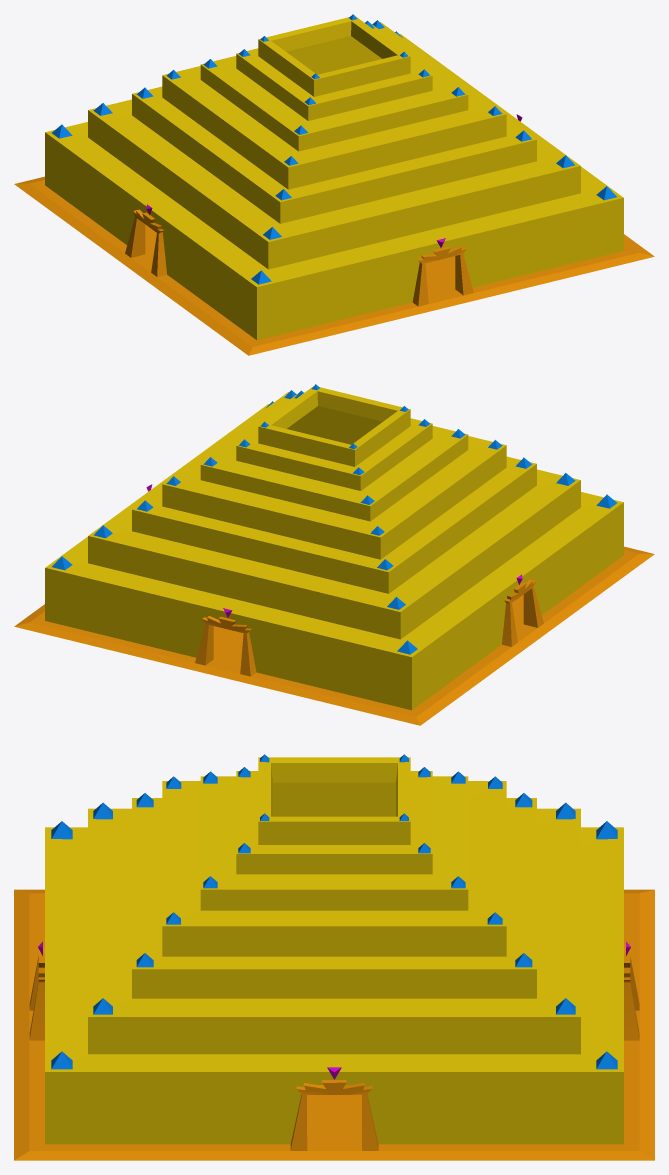
The model's file is Temple Shell.fbx.
The picture shows the model from 3 angles, top to bottom: view 1: azimuth 30°, elevation 25°; view 2: azimuth 150°, elevation 25°; view 3: azimuth 270°, elevation 25°; orthographic projection. The views are drawn at different scales.
Visible parts, largest first — view 1: pCube1, pCube3, Temple_FIX_0000000000000000000000000000000000000:Temple_FIX_ (×2); view 2: pCube1, pCube3, Temple_FIX_0000000000000000000000000000000000000:Temple_FIX_ (×2); view 3: pCube1, pCube3, Temple_FIX_0000000000000000000000000000000000000:Temple_FIX_ (×3).
Boxes of the visible parts, x1,y1,x2,y2 form: pCube1: (45,16,623,340); pCube3: (14,176,654,355); Temple_FIX_0000000000000000000000000000000000000:Temple_FIX_ (×2): (125,209,473,306); pCube1: (45,386,623,710); pCube3: (14,546,654,725); Temple_FIX_0000000000000000000000000000000000000:Temple_FIX_ (×2): (195,579,543,676); pCube1: (45,757,623,1144); pCube3: (14,889,654,1160); Temple_FIX_0000000000000000000000000000000000000:Temple_FIX_ (×3): (29,947,639,1150).
Bounding box in the file's own units: 28.24 × 11.74 × 28.24.
